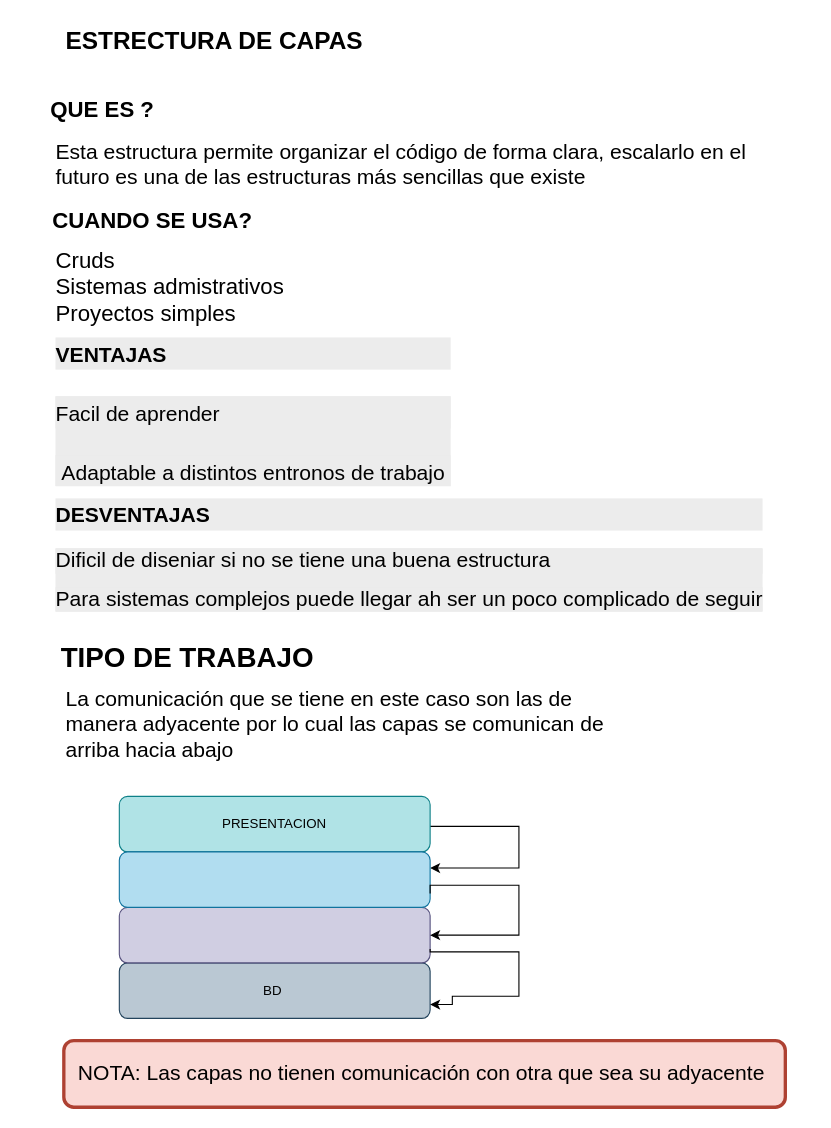
Image size: 831x1128. Some labels were removed from this diagram. Each missing label, with the centre of its shape:
"LOGICA DE NEGOCIO" goes at pixel 274 879.
"PERSISTENCIA" goes at pixel 274 934.
